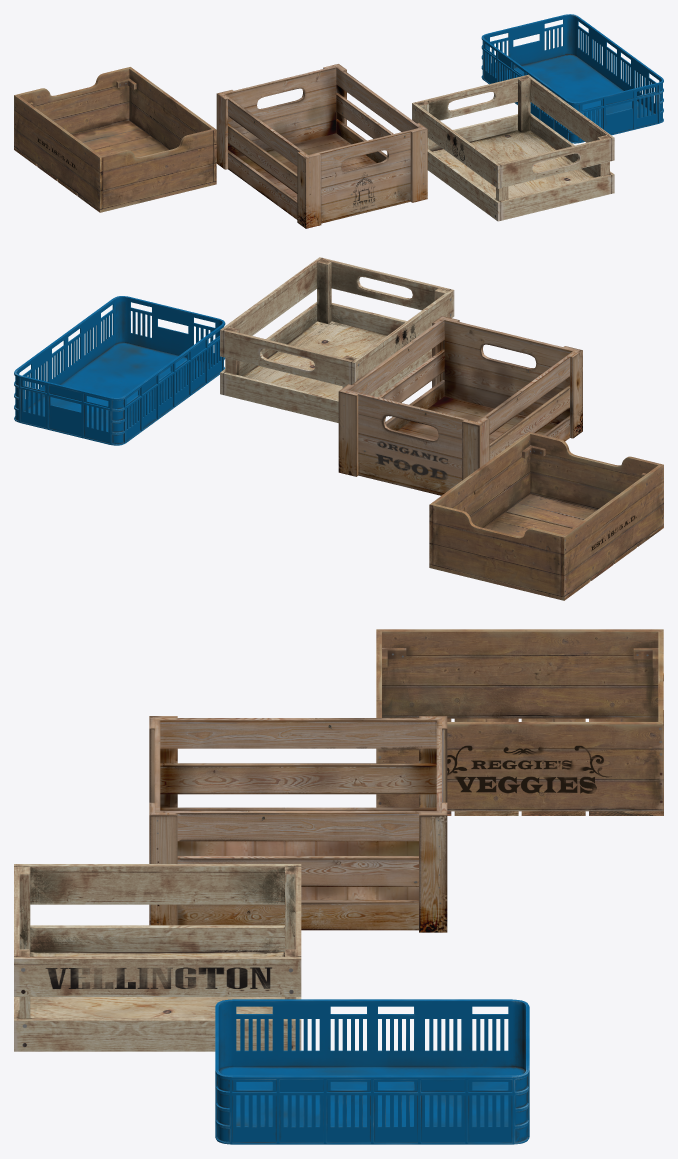
The model's file is MarketCrates.fbx.
3 renders of one model, top to bottom at view 1: azimuth 30°, elevation 25°; view 2: azimuth 150°, elevation 25°; view 3: azimuth 270°, elevation 25°, orthographic. The views are drawn at different scales.
Visible parts, largest first — view 1: FoodCrate1, FoodCrate2, FoodCrate3, FoodCrate4; view 2: FoodCrate1, FoodCrate2, FoodCrate3, FoodCrate4; view 3: FoodCrate1, FoodCrate2, FoodCrate3, FoodCrate4.
Part boxes in pixels (box(x1,y1,x2,y2)): FoodCrate1: box(216, 64, 427, 228); FoodCrate2: box(14, 67, 216, 212); FoodCrate3: box(412, 74, 614, 221); FoodCrate4: box(481, 14, 663, 143); FoodCrate1: box(338, 316, 582, 495); FoodCrate2: box(429, 432, 663, 600); FoodCrate3: box(220, 257, 454, 422); FoodCrate4: box(14, 296, 225, 445); FoodCrate1: box(149, 716, 447, 932); FoodCrate2: box(376, 629, 663, 815); FoodCrate3: box(14, 864, 301, 1051); FoodCrate4: box(215, 999, 529, 1144).
Size of the model in its own units: 209 by 27.15 by 136.
